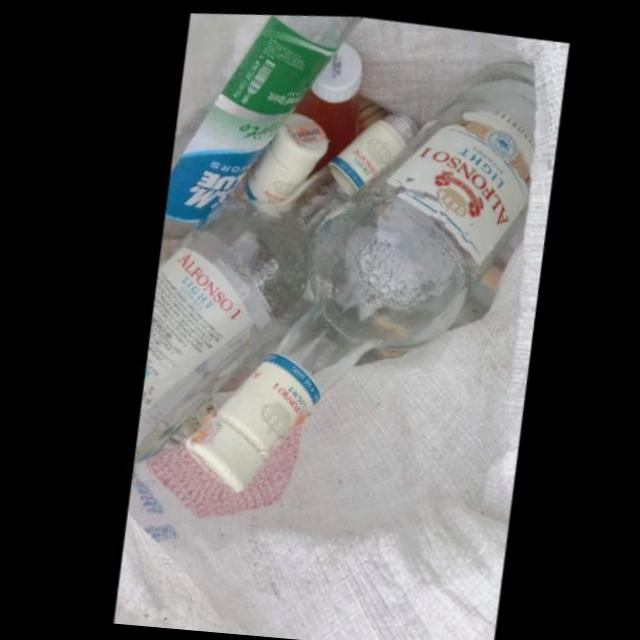chai_thuy_tinh: (181, 53, 536, 483), (129, 107, 419, 454), (156, 6, 365, 260), (294, 36, 363, 169)
